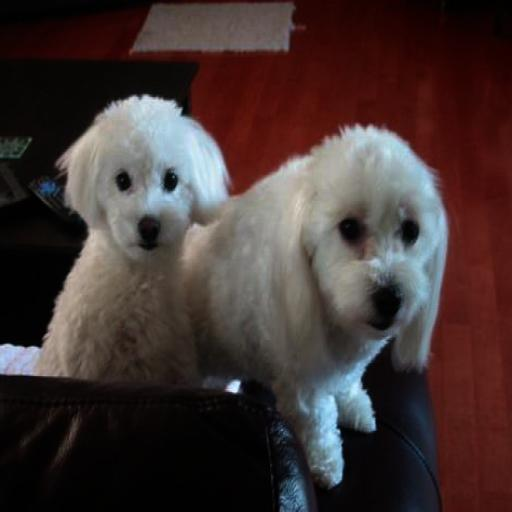dog_face: (300, 138, 443, 347), (60, 101, 215, 265)
